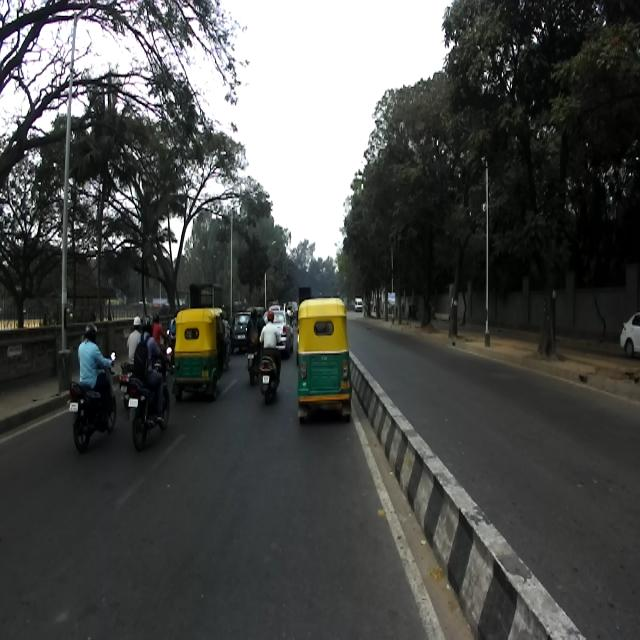auto ahead at: (297, 302, 351, 418), (171, 313, 223, 389)
motorcycle ahead at: (71, 381, 109, 451), (120, 374, 152, 449), (256, 349, 279, 406)
